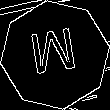M_S: (28, 26, 82, 84)
